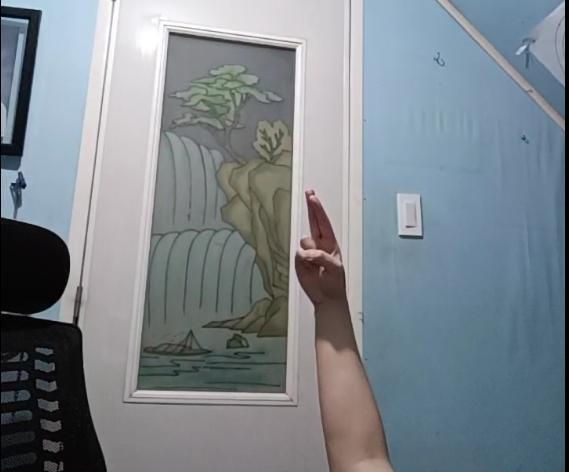r: (294, 187, 347, 300)
